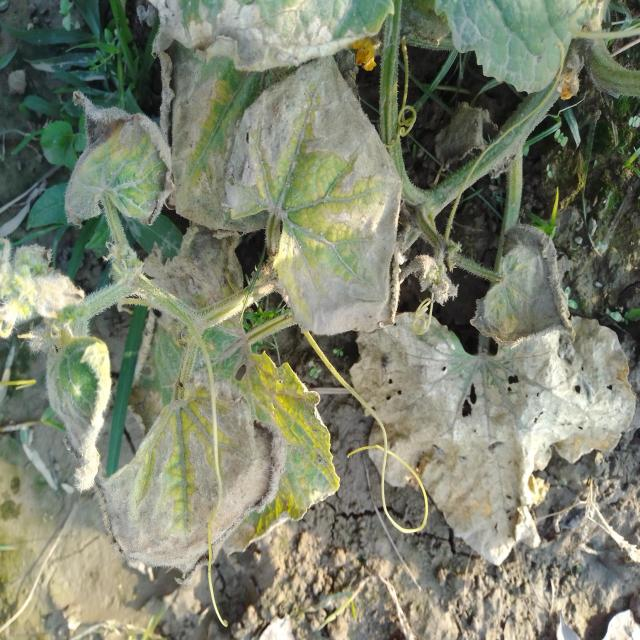cucumber_bacterial: (348, 213, 635, 568), (162, 2, 428, 220), (97, 350, 333, 588), (229, 67, 412, 340), (24, 300, 137, 514), (58, 86, 179, 269)
